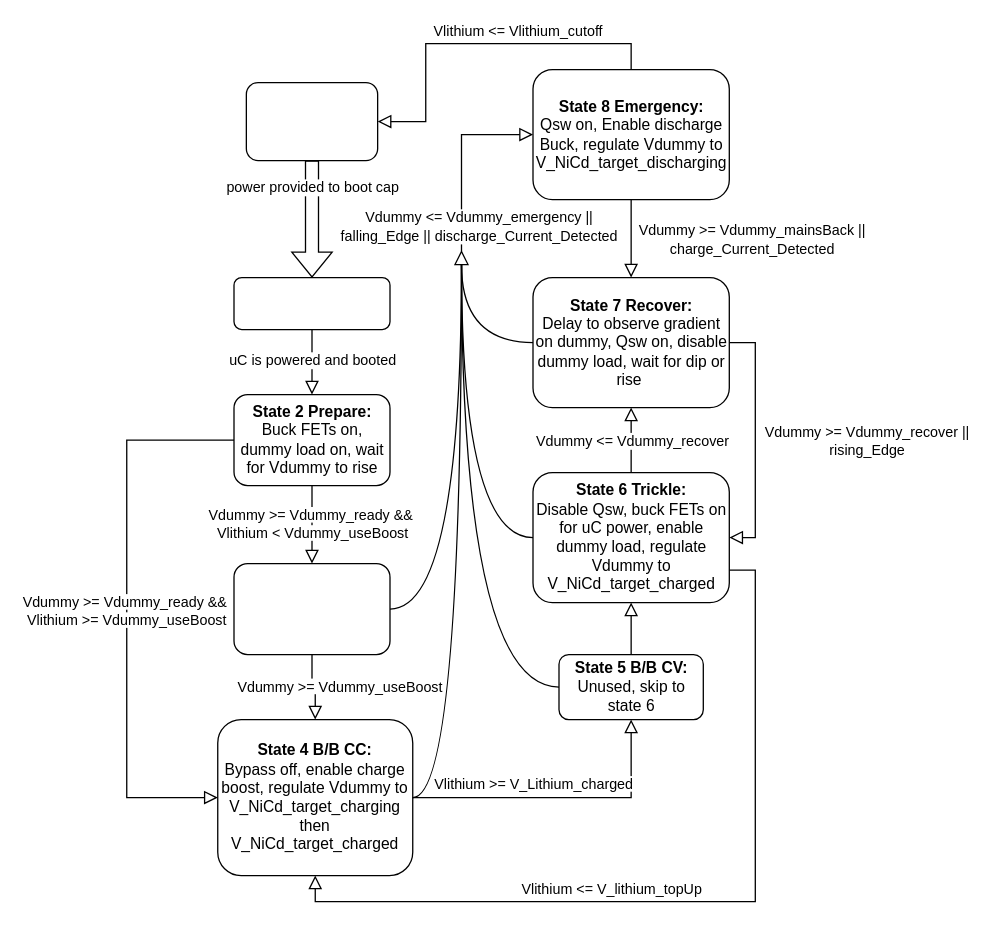
Some shapes in this 994 by 937 pixel diagram are drawn without their labels. The centre of each missing label's shape, as x and y in pixels:
"State 1 Boot: Waiting for Qsw on" belongs at point 311,303.
"State 3 Direct: Output On, Bypass On" belongs at point 311,608.
"State 9 Off: Everything off, uC dies" belongs at point 311,121.
